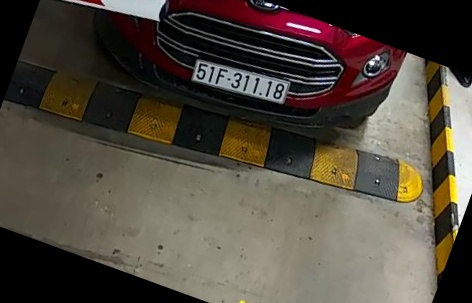plate: (186, 51, 301, 111)
